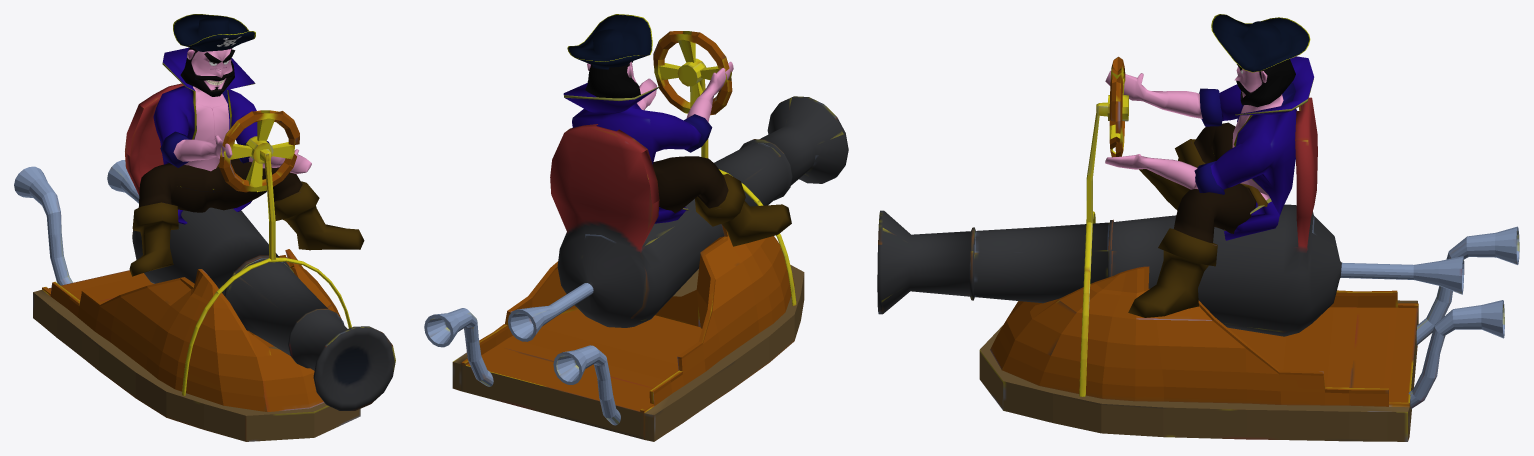
The model's file is pirataGiroDER_000326.obj.
3 views of the same model, side by side, from view 1: azimuth 30°, elevation 25°; view 2: azimuth 150°, elevation 25°; view 3: azimuth 270°, elevation 25° (orthographic). The views are drawn at different scales.
Visible parts, largest first — view 1: carro_pirata, Pirata_PirataH; view 2: carro_pirata, Pirata_PirataH; view 3: carro_pirata, Pirata_PirataH.
Boxes of the visible parts, x1,y1,x2,y2 form: carro_pirata: [14, 83, 395, 441]; Pirata_PirataH: [129, 14, 364, 276]; carro_pirata: [424, 31, 848, 441]; Pirata_PirataH: [563, 14, 791, 246]; carro_pirata: [877, 56, 1519, 441]; Pirata_PirataH: [1105, 14, 1314, 317].
Size of the model in its own units: 5.65 by 7.68 by 12.1.
2 materials, 2 textured.
